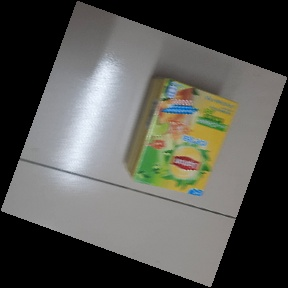LipTon: (122, 69, 237, 199)
